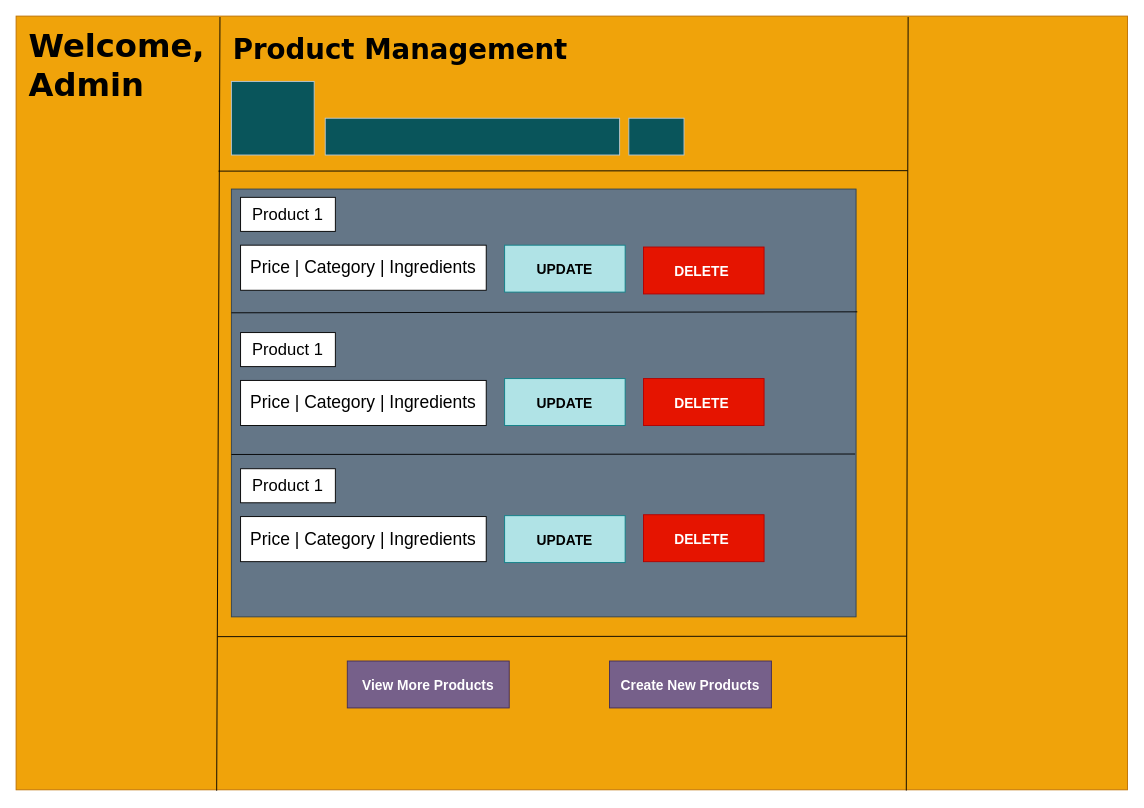
This 1144x808 diagram has some shape labels left out. The centre of each missing label's shape, as x and y in pixels:
Filter: the point at 656,136
LOGO: the point at 272,117
Search: the point at 472,136
